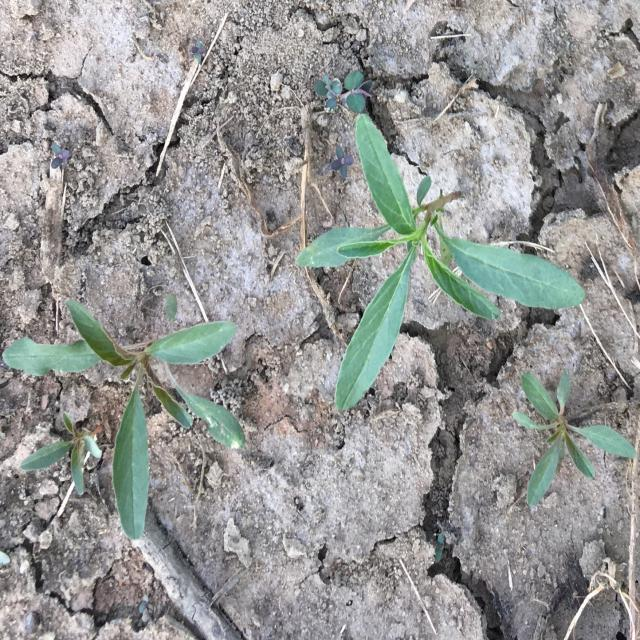Waterhemp: (295, 113, 585, 412), (3, 295, 246, 541), (511, 369, 637, 508), (19, 413, 102, 496)
